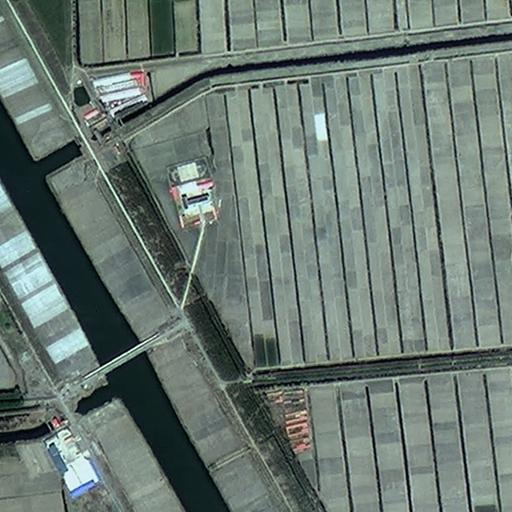school: (167, 156, 220, 235)
